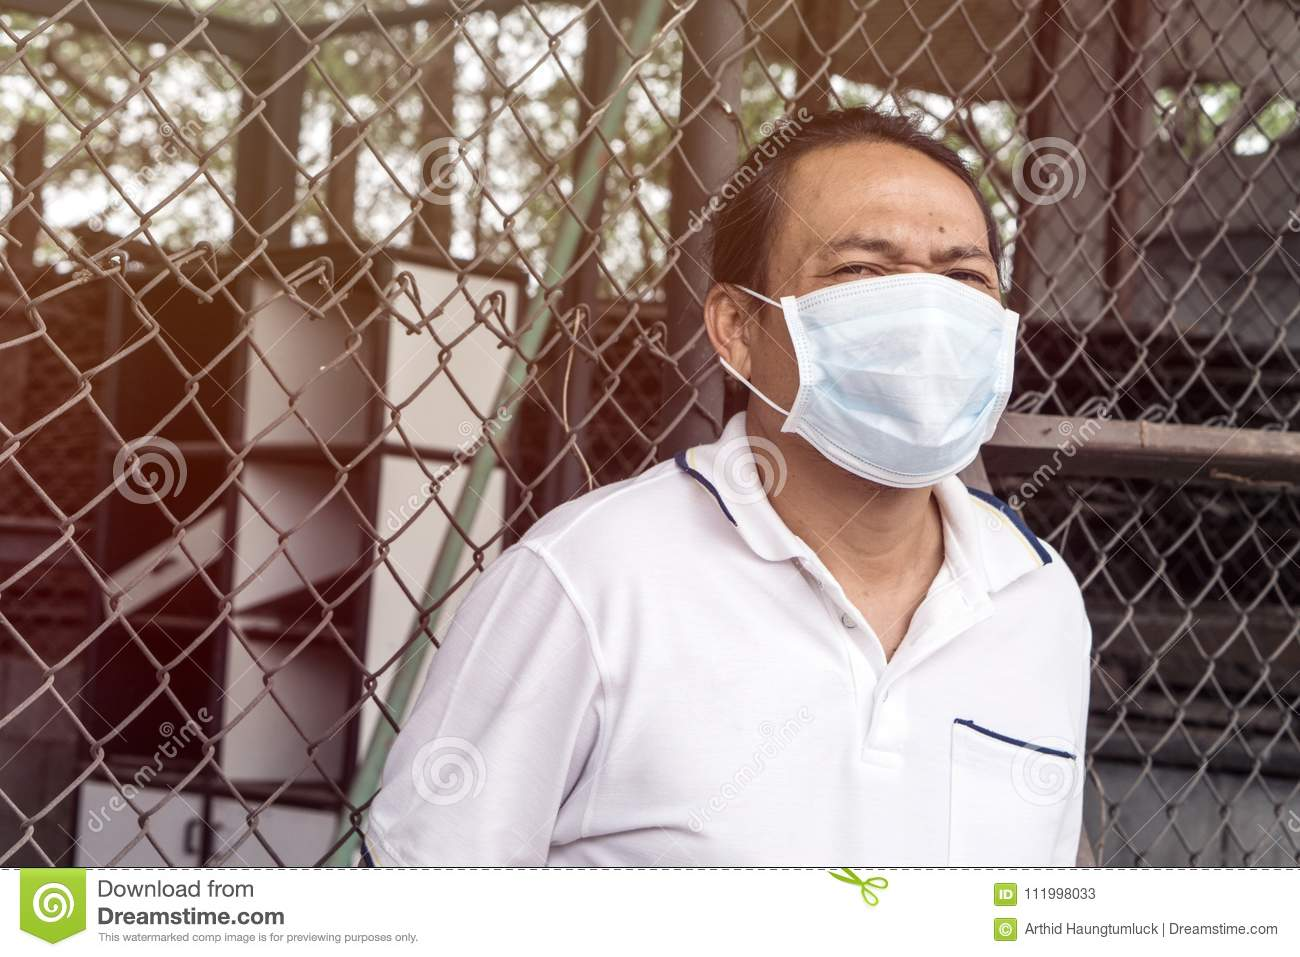mask: (788, 277, 1017, 487)
